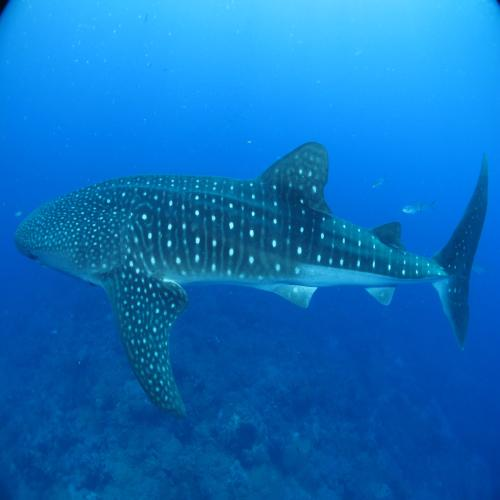shark-endangered: (16, 140, 490, 416)
